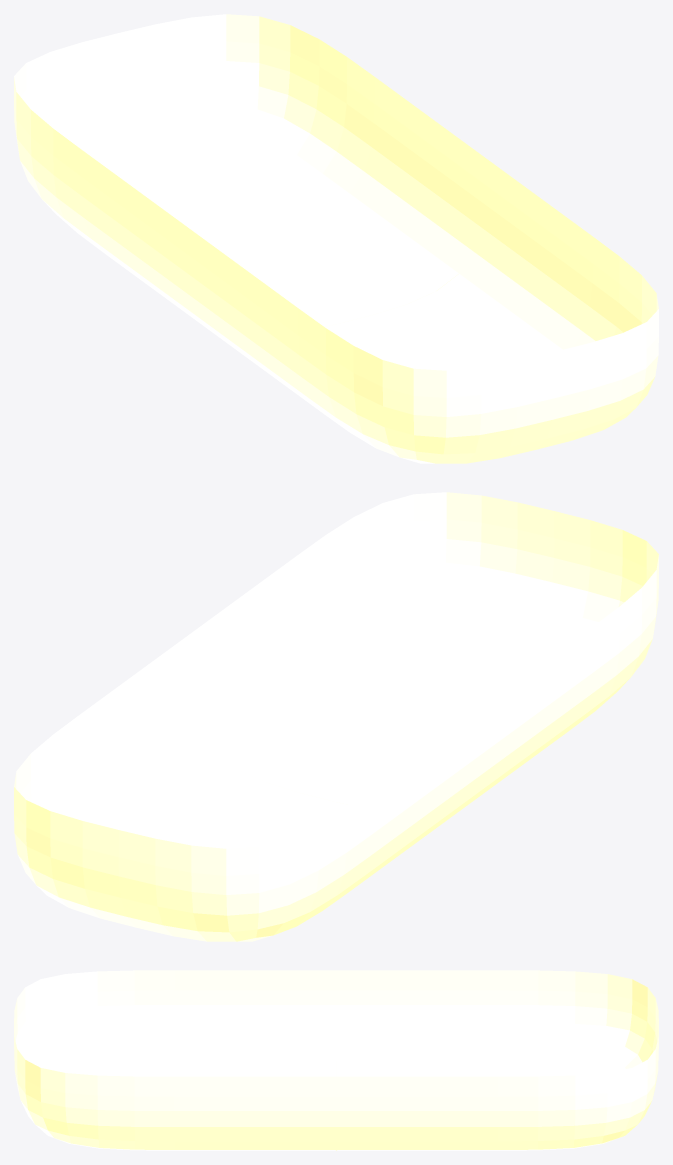
The model's file is Light 2_Bake.fbx.
The picture shows the model from 3 angles, top to bottom: view 1: azimuth 30°, elevation 25°; view 2: azimuth 150°, elevation 25°; view 3: azimuth 270°, elevation 25°; orthographic projection. The views are drawn at different scales.
Visible parts, largest first — view 1: Light 2_Bake; view 2: Light 2_Bake; view 3: Light 2_Bake.
Part boxes in pixels (x1,y1,x2,y2): Light 2_Bake: [14, 14, 658, 463]; Light 2_Bake: [14, 492, 658, 941]; Light 2_Bake: [14, 970, 658, 1150].
Bounding box in the file's own units: 67.29 × 26.26 × 11.22.
Materials: 1 (1 with a texture image).
